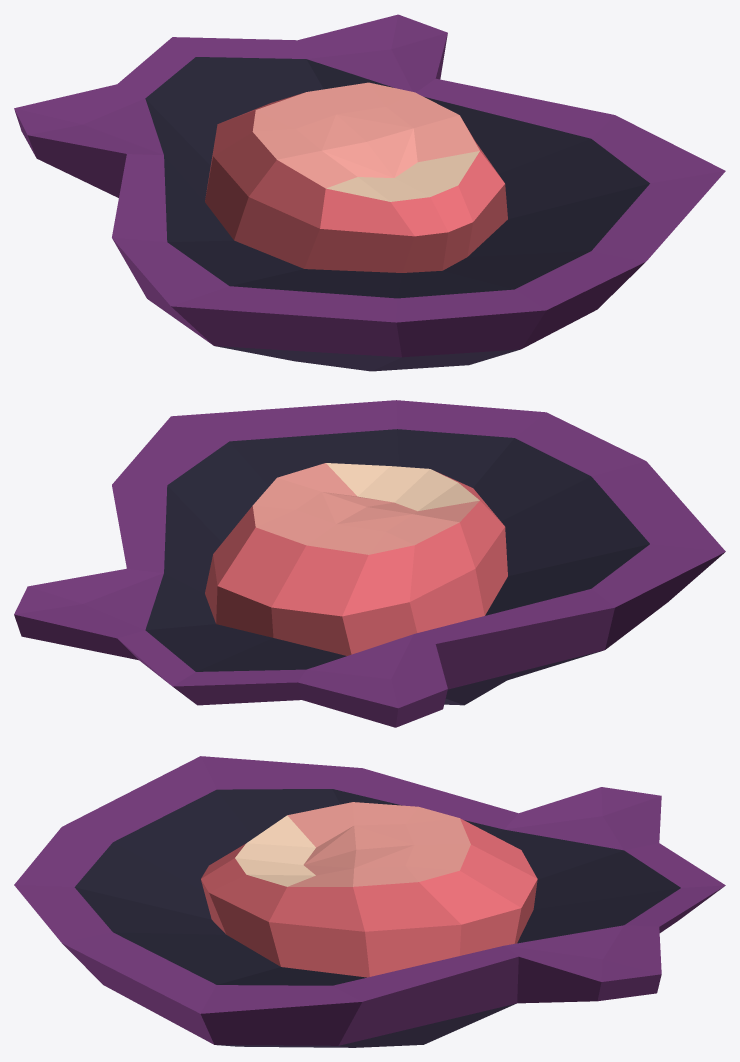
Rendered from bottom of pearl clam.fbx.
3 views of the same model, one above another, from view 1: azimuth 30°, elevation 25°; view 2: azimuth 150°, elevation 25°; view 3: azimuth 270°, elevation 25° (orthographic). The views are drawn at different scales.
Visible parts, largest first — view 1: Sphere; view 2: Sphere; view 3: Sphere.
Boxes of the visible parts, x1,y1,x2,y2 form: Sphere: (14, 14, 725, 371); Sphere: (14, 400, 725, 727); Sphere: (14, 756, 725, 1047).
Bounding box in the file's own units: 267 × 70.74 × 312.
